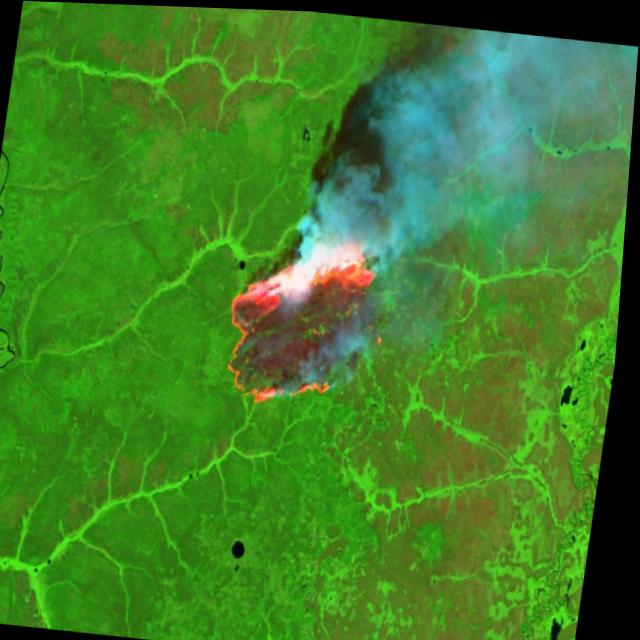fire: (215, 212, 401, 414)
